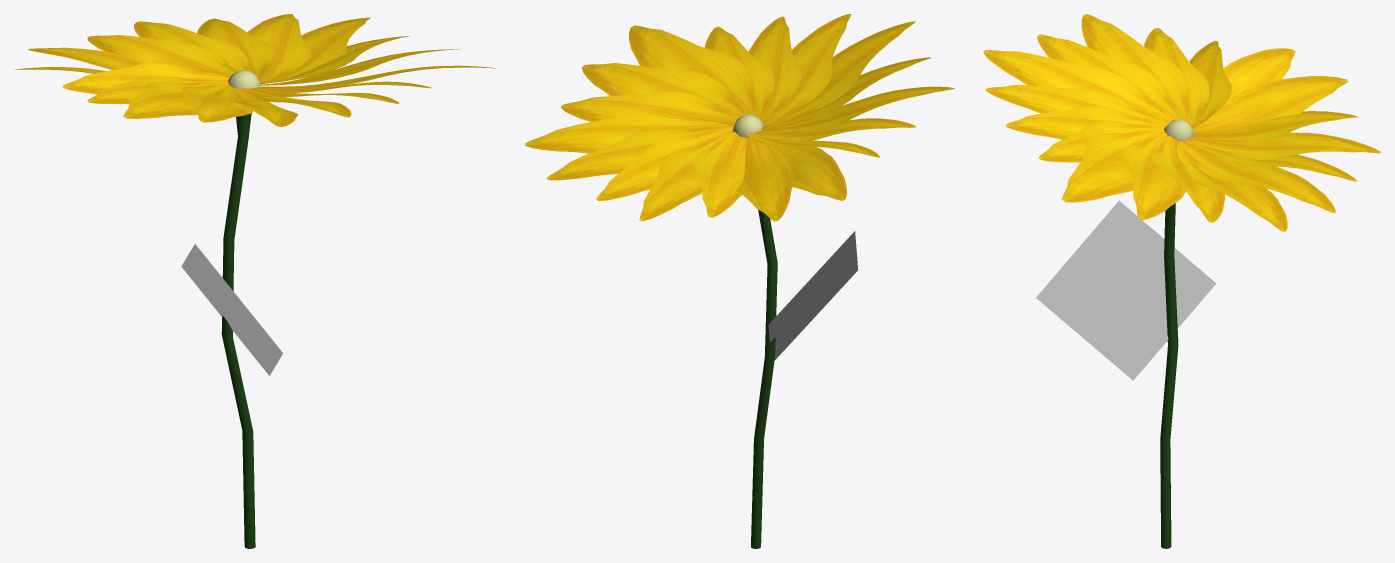
Rendered from YellowFlower.fbx.
3 views of the same model, side by side, from view 1: azimuth 30°, elevation 25°; view 2: azimuth 150°, elevation 25°; view 3: azimuth 270°, elevation 25° (orthographic). The views are drawn at different scales.
Visible parts, largest first — view 1: YellowFlower, YellowFlower.001, YellowFlower.009, YellowFlower.006, YellowFlower.014, YellowFlower.012, YellowFlower.005, YellowFlower.008, YellowFlower.007, YellowFlower.015, YellowFlower.013, YellowFlower.010 (+7 smaller); view 2: YellowFlower.002, YellowFlower, YellowFlower.003, YellowFlower.001, YellowFlower.004, YellowFlower.005, YellowFlower.010, YellowFlower.009, YellowFlower.017, YellowFlower.006, YellowFlower.016, YellowFlower.008 (+8 smaller); view 3: YellowFlower.001, YellowFlower.016, YellowFlower, YellowFlower.010, YellowFlower.002, YellowFlower.014, YellowFlower.006, YellowFlower.003, YellowFlower.017, YellowFlower.008, YellowFlower.015, YellowFlower.018 (+8 smaller).
Part boxes in pixels (x1,y1,x2,y2): YellowFlower: (221, 70, 260, 548); YellowFlower.001: (181, 244, 283, 375); YellowFlower.009: (87, 35, 238, 77); YellowFlower.006: (247, 14, 311, 82); YellowFlower.014: (123, 81, 228, 118); YellowFlower.012: (63, 62, 229, 94); YellowFlower.005: (260, 17, 370, 84); YellowFlower.008: (134, 21, 251, 71); YellowFlower.007: (197, 18, 275, 77); YellowFlower.015: (181, 83, 252, 122); YellowFlower.013: (87, 75, 227, 104); YellowFlower.010: (28, 47, 141, 70); YellowFlower.002: (629, 25, 757, 116); YellowFlower: (733, 114, 777, 548); YellowFlower.003: (582, 63, 746, 117); YellowFlower.001: (768, 231, 858, 360); YellowFlower.004: (561, 91, 739, 126); YellowFlower.005: (525, 110, 730, 153); YellowFlower.010: (737, 137, 793, 221); YellowFlower.009: (691, 132, 747, 217); YellowFlower.017: (763, 14, 851, 125); YellowFlower.006: (547, 126, 733, 180); YellowFlower.016: (762, 21, 915, 127); YellowFlower.008: (639, 133, 731, 221); YellowFlower.001: (1036, 200, 1216, 380); YellowFlower.016: (983, 50, 1173, 123); YellowFlower: (1160, 119, 1194, 548); YellowFlower.010: (1193, 75, 1348, 132); YellowFlower.002: (1061, 130, 1165, 202); YellowFlower.014: (1081, 14, 1190, 122); YellowFlower.006: (1179, 141, 1335, 212); YellowFlower.003: (1120, 133, 1185, 219); YellowFlower.017: (985, 85, 1168, 125); YellowFlower.008: (1190, 132, 1380, 160); YellowFlower.015: (1037, 34, 1181, 119); YellowFlower.018: (1006, 106, 1166, 139).
Bounding box in the file's own units: 13.44 × 17.31 × 13.17.
